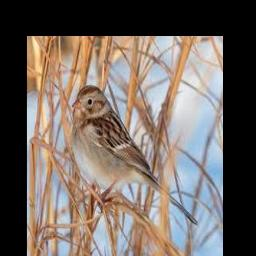Sparrow: (71, 85, 198, 226)
